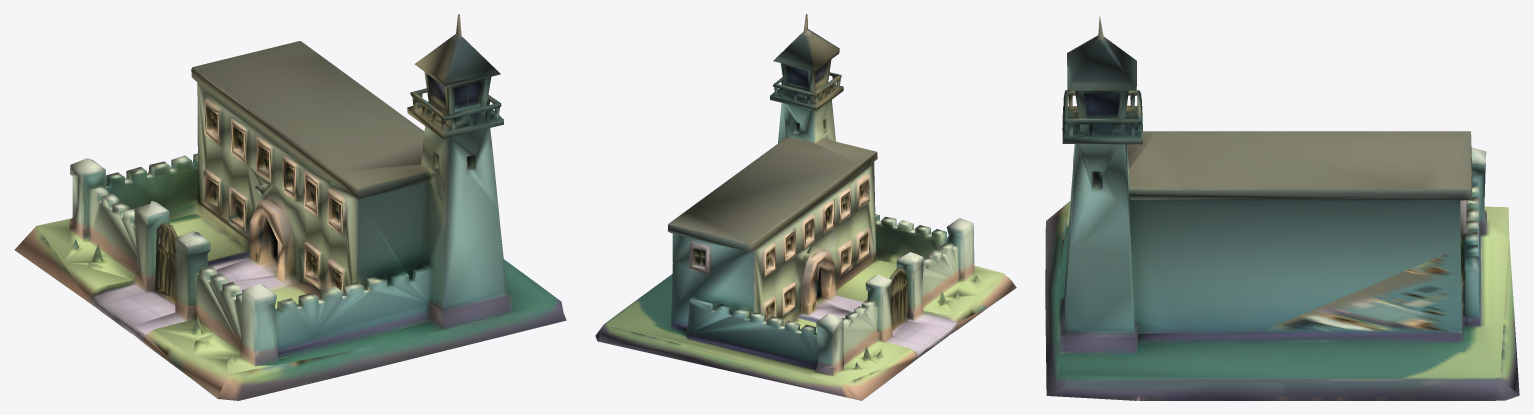
The model's file is kisla.glb.
The picture shows the model from 3 angles, left to right: view 1: azimuth 30°, elevation 25°; view 2: azimuth 150°, elevation 25°; view 3: azimuth 270°, elevation 25°; orthographic projection. The views are drawn at different scales.
Visible parts, largest first — view 1: node_0; view 2: node_0; view 3: node_0.
Boxes of the visible parts, box(x1,y1,x2,y2) form: node_0: box(14, 14, 566, 400); node_0: box(595, 14, 1016, 400); node_0: box(1045, 16, 1519, 400).
Size of the model in its own units: 0.7238 by 0.6096 by 0.7765.
1 material, 1 textured.
